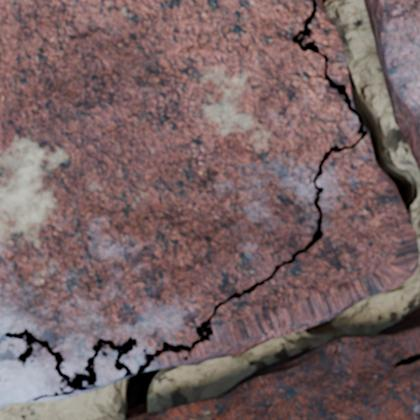brick: (0, 0, 359, 375), (149, 136, 418, 368), (131, 308, 419, 419), (364, 0, 419, 168), (0, 339, 64, 407), (304, 0, 349, 93), (95, 349, 124, 386), (40, 392, 84, 400)
crack: (0, 0, 418, 419), (304, 312, 342, 332), (391, 353, 419, 369), (321, 0, 328, 8)
